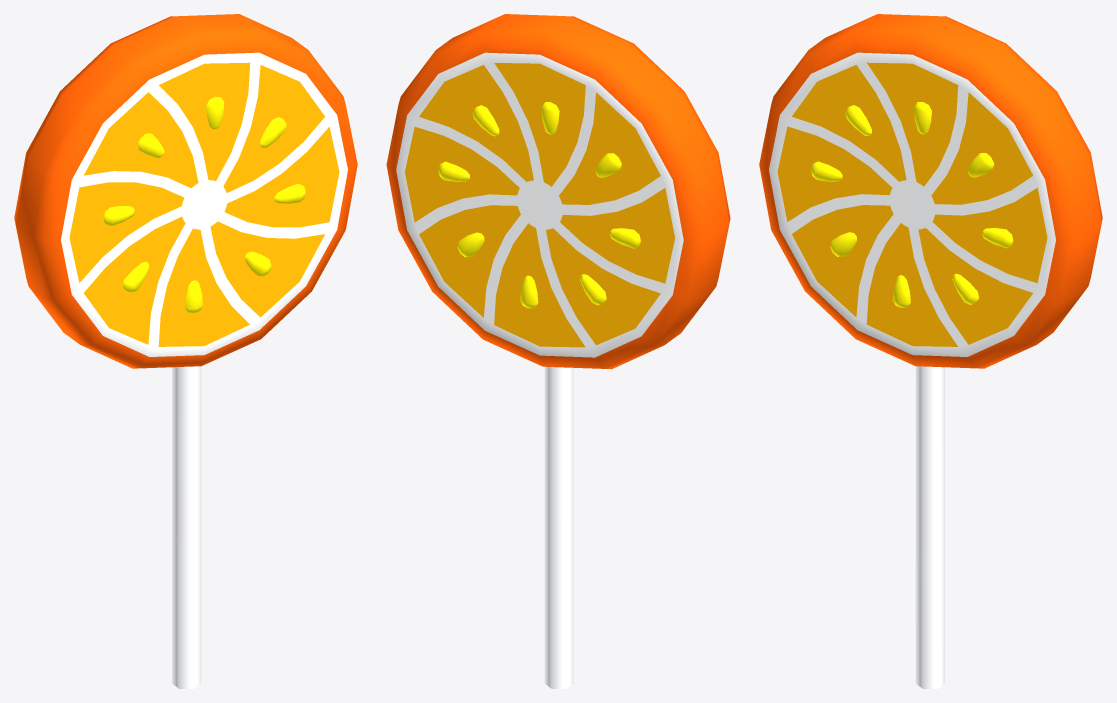
Rendered from Lollipop_17.glb.
3 renders of one model, left to right at view 1: azimuth 30°, elevation 25°; view 2: azimuth 150°, elevation 25°; view 3: azimuth 330°, elevation 25°, orthographic.
Parts seen in each view (by area): view 1: Lollipop_17; view 2: Lollipop_17; view 3: Lollipop_17.
Boxes of the visible parts, x1,y1,x2,y2 form: Lollipop_17: [14, 14, 357, 688]; Lollipop_17: [386, 14, 730, 688]; Lollipop_17: [759, 14, 1102, 688].
Bounding box in the file's own units: 2.88 × 5.63 × 0.6702.
Materials: 1 (1 with a texture image).
